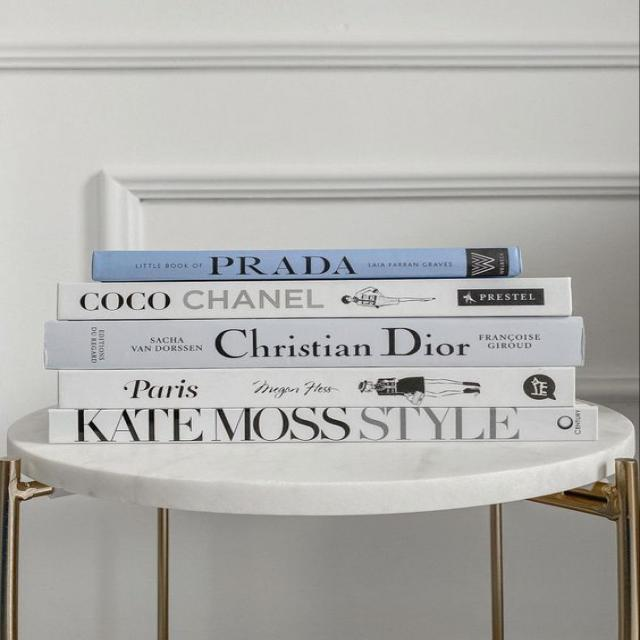book: (45, 317, 583, 369), (58, 275, 572, 319), (50, 404, 597, 443), (59, 367, 574, 407), (92, 247, 521, 282)
